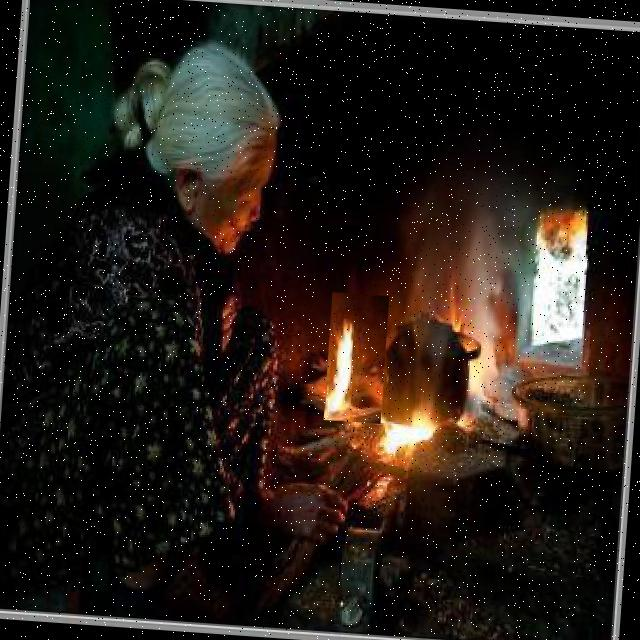fire: (323, 292, 389, 424)
